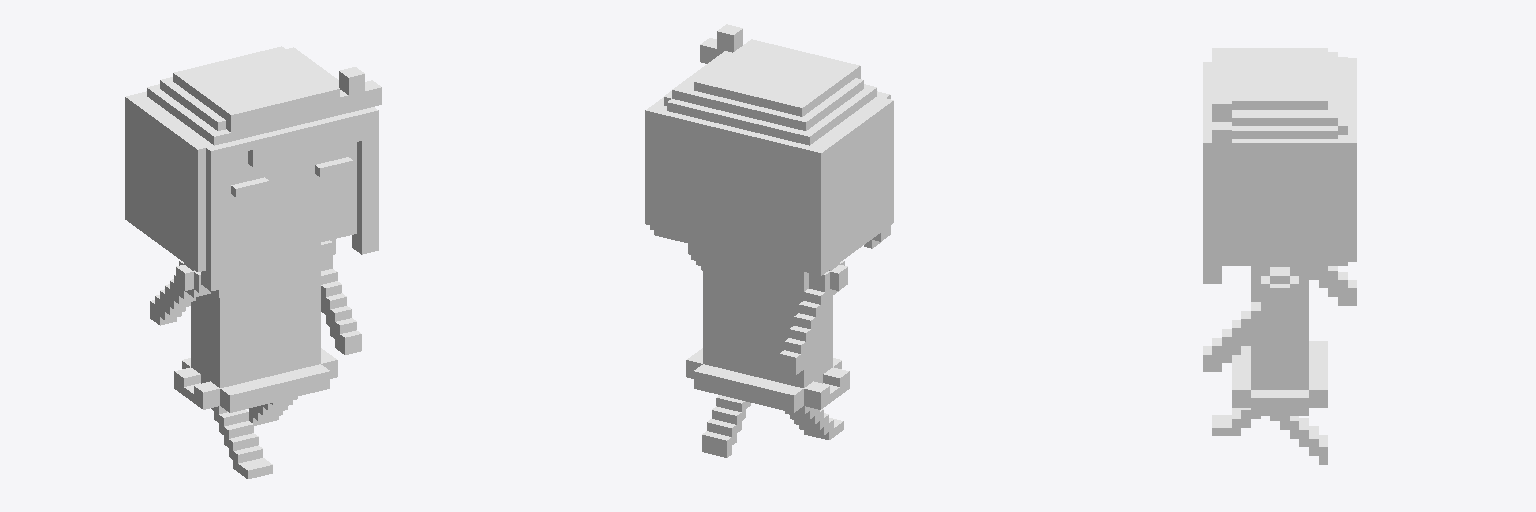
The model's file is defaultcharacter-Girl.obj.
3 renders of one model, left to right at view 1: azimuth 30°, elevation 25°; view 2: azimuth 150°, elevation 25°; view 3: azimuth 270°, elevation 25°, orthographic.
Parts seen in each view (by area): view 1: character; view 2: character; view 3: character.
Boxes of the visible parts, box(x1,y1,x2,y2) form: character: box(125, 46, 381, 478); character: box(645, 24, 893, 457); character: box(1203, 48, 1356, 464).
Bounding box in the file's own units: 2.2 × 4.3 × 1.6.